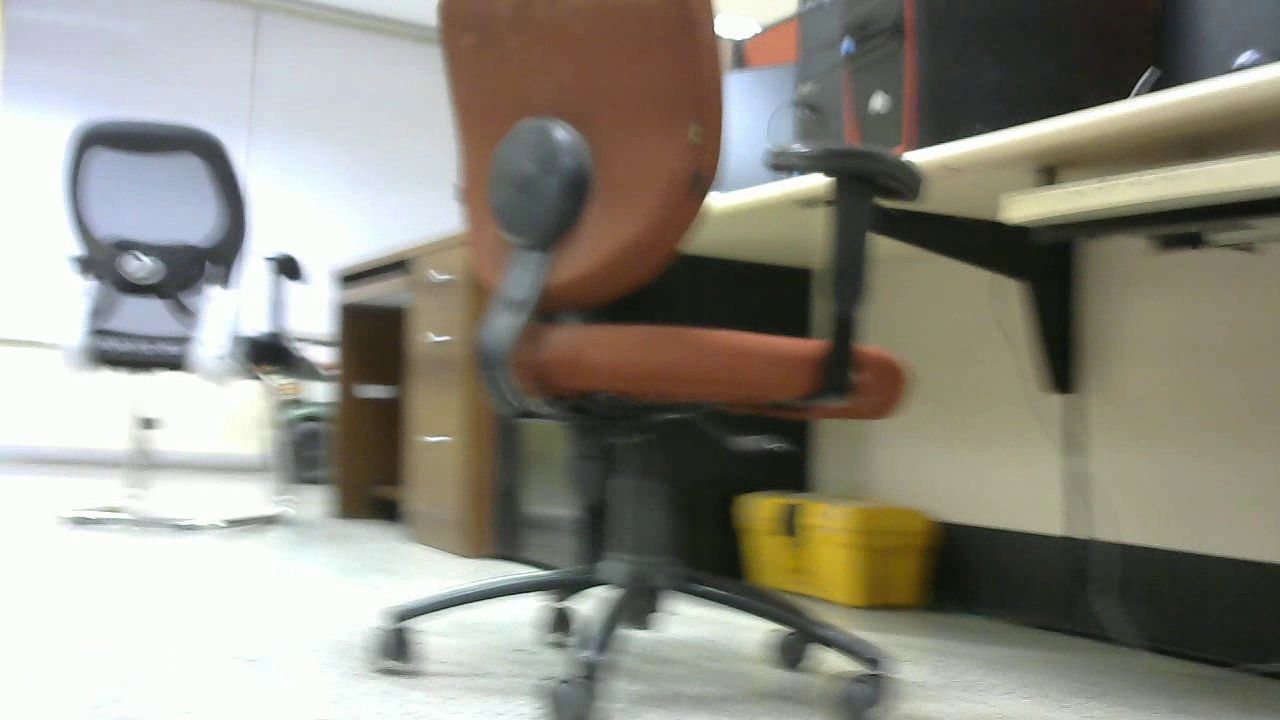chair: (375, 3, 930, 720), (30, 109, 338, 559)
